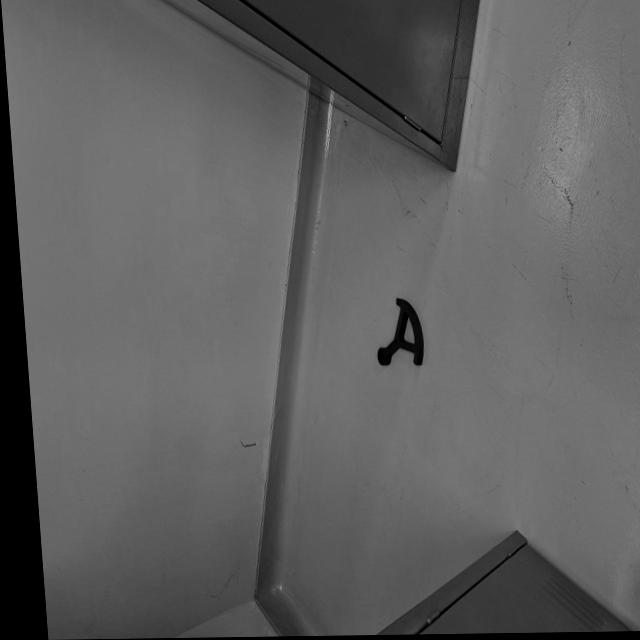haptic: (371, 297, 425, 367)
